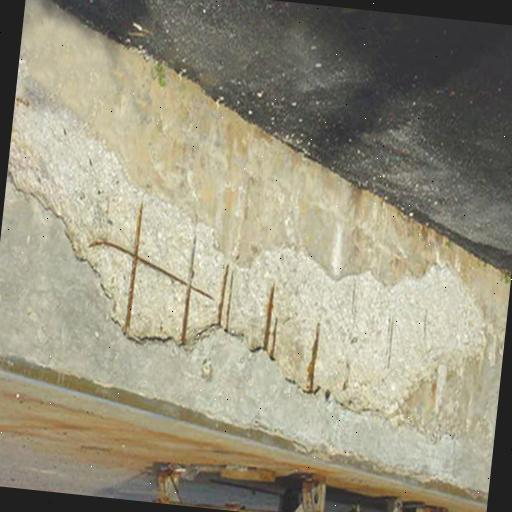spalling: (10, 112, 488, 408)
